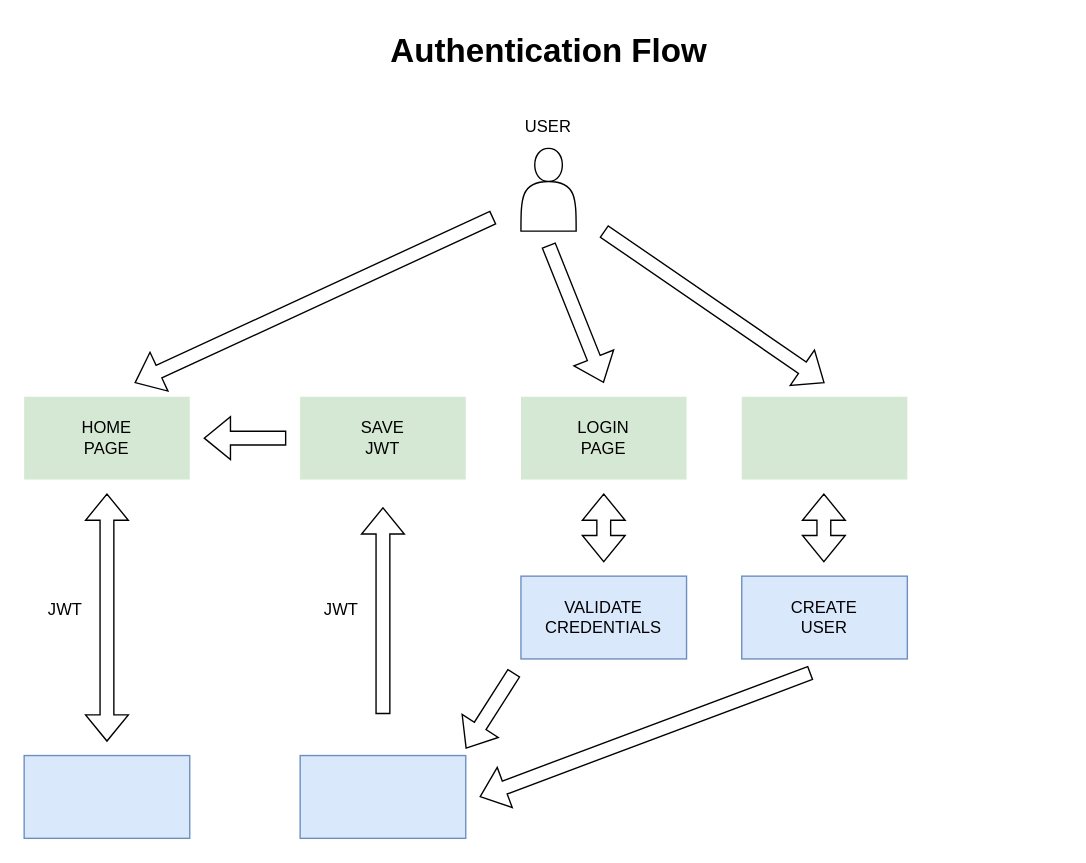
Image size: 1086x863. Some labels were removed from this diagram. Each missing label, with the centre of its shape:
AUTHENTICATION PROTECTED ENDPOINT: (106,796)
CREATE JWT: (382,796)
SIGNUP PAGE: (824,437)
